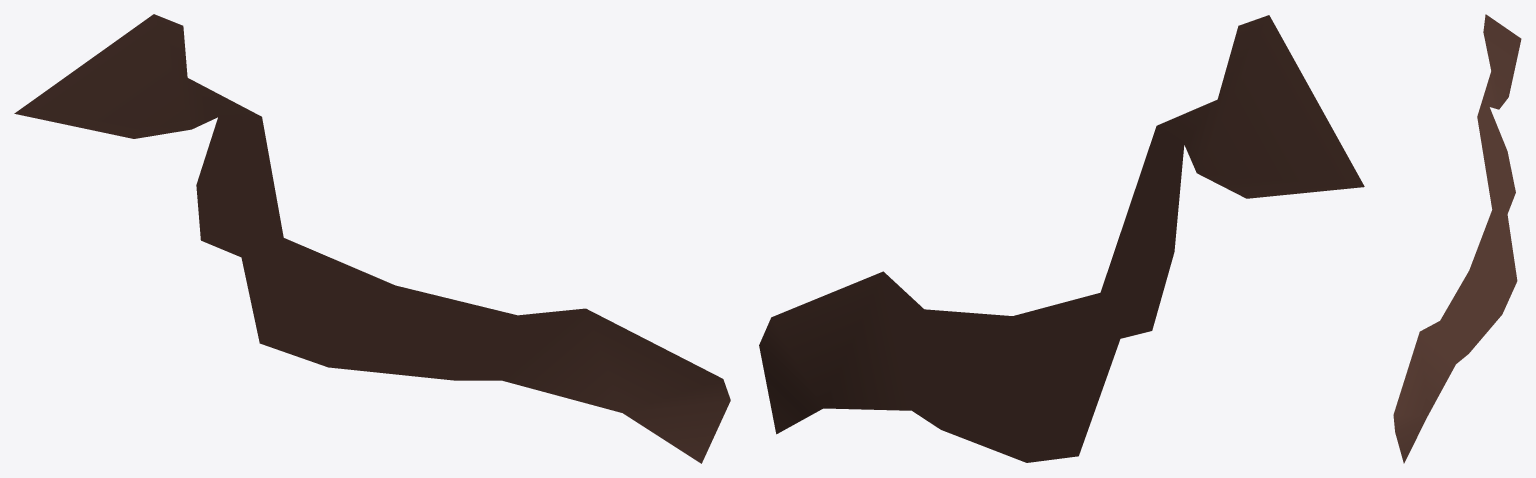
The model's file is original-18.obj.
The picture shows the model from 3 angles, left to right: view 1: azimuth 30°, elevation 25°; view 2: azimuth 150°, elevation 25°; view 3: azimuth 270°, elevation 25°; orthographic projection. The views are drawn at different scales.
Parts seen in each view (by area): view 1: mesh9/mesh9-geometry#mesh9-geometry; view 2: mesh9/mesh9-geometry#mesh9-geometry; view 3: mesh9/mesh9-geometry#mesh9-geometry.
Boxes of the visible parts, x1,y1,x2,y2 form: mesh9/mesh9-geometry#mesh9-geometry: [14, 14, 730, 463]; mesh9/mesh9-geometry#mesh9-geometry: [759, 15, 1364, 462]; mesh9/mesh9-geometry#mesh9-geometry: [1393, 14, 1521, 463].
Bounding box in the file's own units: 0.1242 × 0.1004 × 0.0376.
